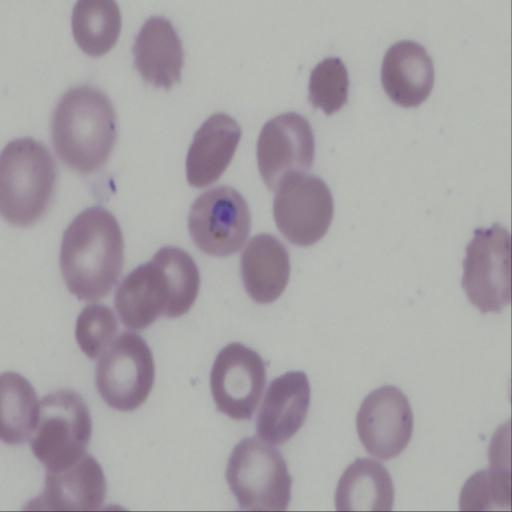Infected: (186, 184, 253, 259)
Uninfected: (117, 247, 199, 330), (59, 206, 124, 302), (50, 85, 118, 170), (0, 137, 55, 224), (30, 392, 91, 467), (226, 438, 289, 510), (272, 172, 334, 245), (183, 112, 243, 187), (355, 385, 414, 459), (462, 225, 512, 312), (255, 113, 313, 186), (97, 336, 154, 408), (31, 455, 106, 509), (209, 344, 265, 416), (256, 372, 312, 442), (379, 39, 436, 106), (239, 234, 292, 306), (134, 17, 185, 87), (335, 461, 392, 512), (0, 373, 39, 443), (70, 0, 122, 52), (308, 57, 350, 113), (75, 305, 117, 356), (459, 469, 506, 511)
